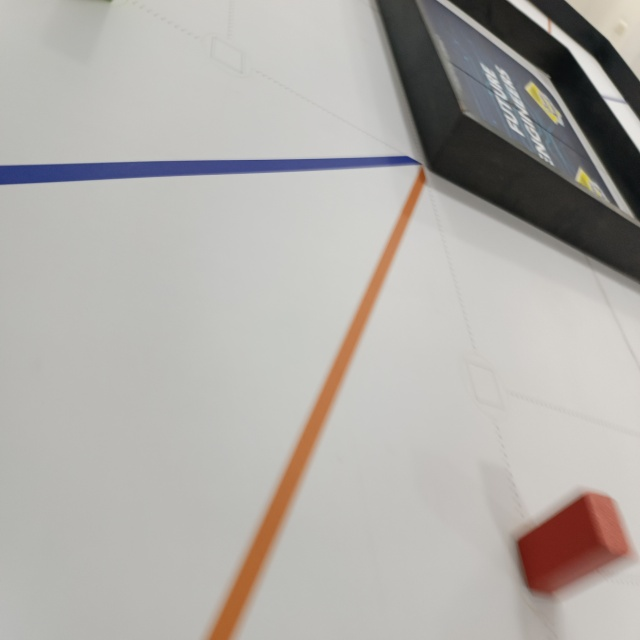blue line: (0, 151, 420, 184)
orange line: (211, 172, 429, 640)
red rectangular prism: (503, 487, 635, 596)
